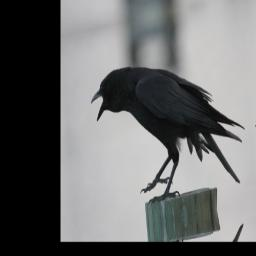Crow: (88, 40, 249, 218)
